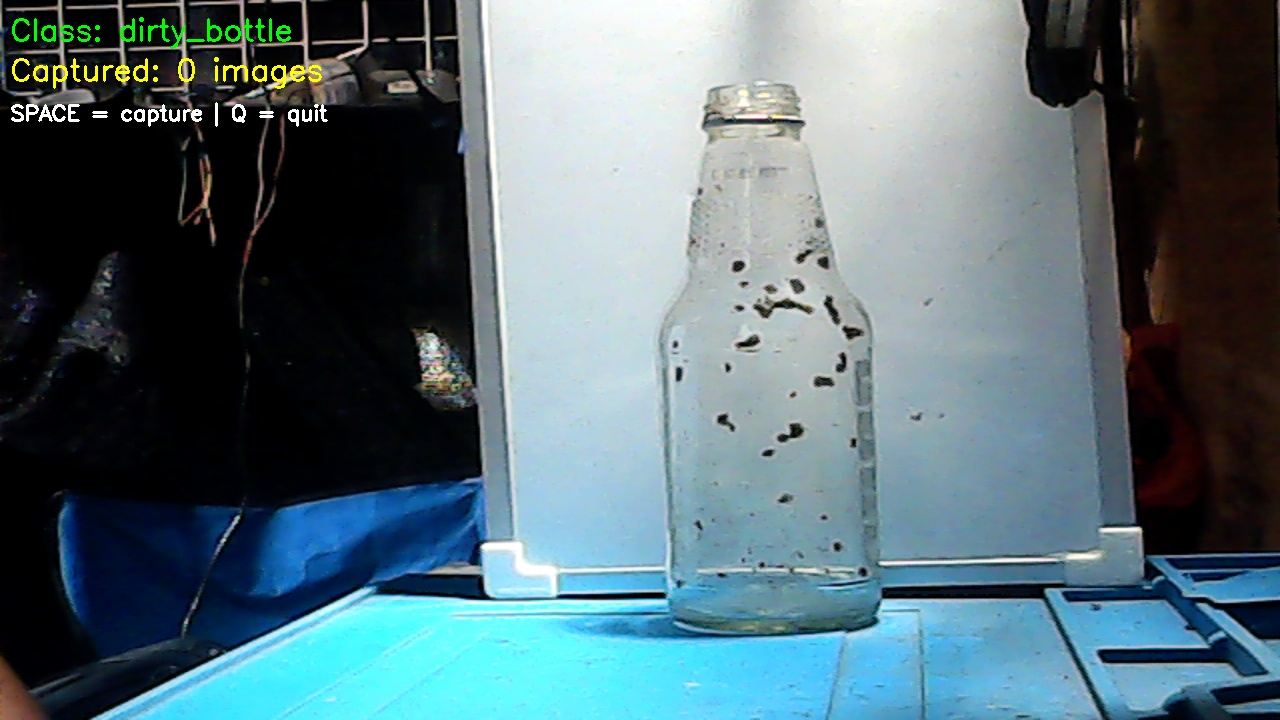dirty_bottle: (652, 88, 891, 635)
